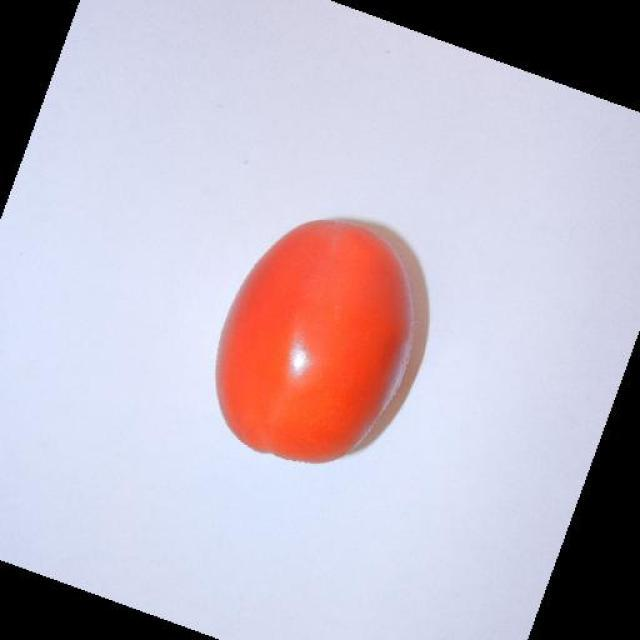Fresh Tomato: (200, 210, 433, 479)
